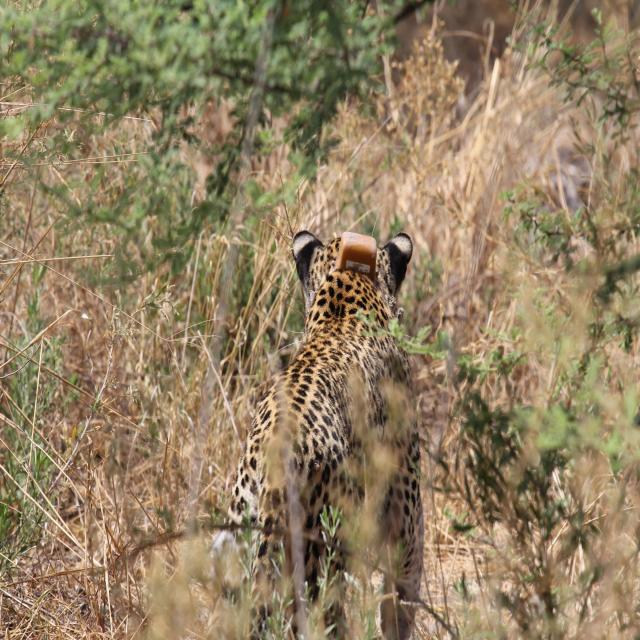Leopard: (159, 215, 476, 625)
